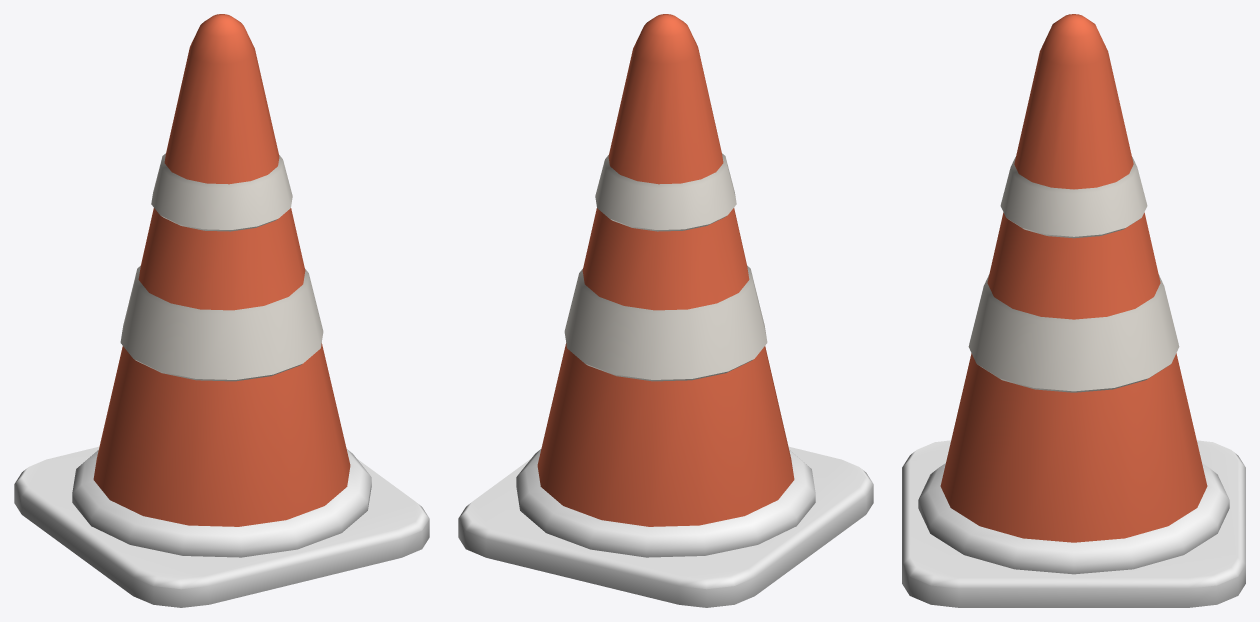
The model's file is traffic_cone.fbx.
3 views of the same model, side by side, from view 1: azimuth 30°, elevation 25°; view 2: azimuth 150°, elevation 25°; view 3: azimuth 270°, elevation 25° (orthographic). The views are drawn at different scales.
Visible parts, largest first — view 1: traffic_cone; view 2: traffic_cone; view 3: traffic_cone.
Boxes of the visible parts, left/top/right/bottom form: traffic_cone: left=14, top=14, right=429, bottom=607; traffic_cone: left=458, top=14, right=873, bottom=607; traffic_cone: left=902, top=14, right=1245, bottom=607.
Size of the model in its own units: 0.42 by 0.7 by 0.42.
